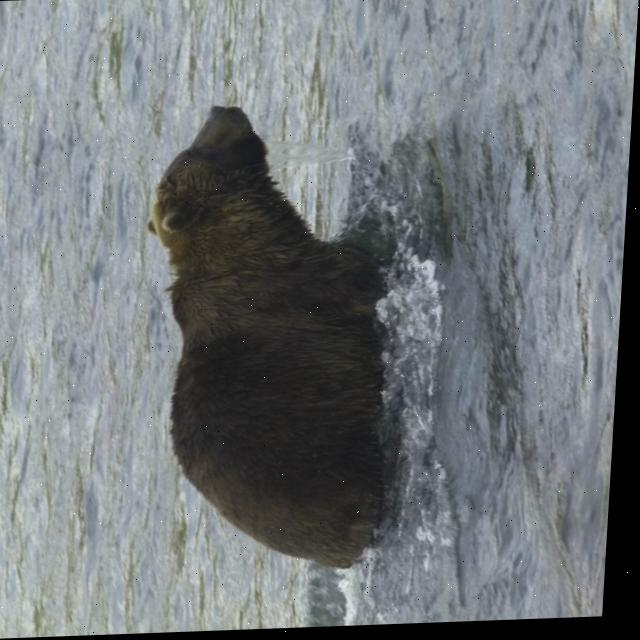bear face: (132, 99, 407, 571)
